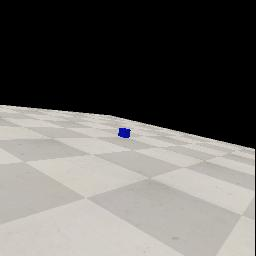box: (118, 128, 131, 138)
